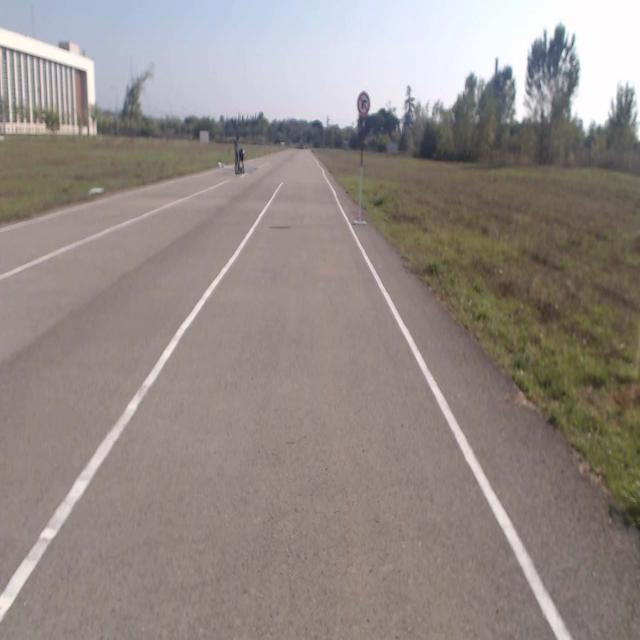sagadonulmez: (357, 90, 370, 116)
